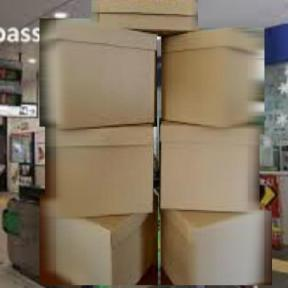box: (38, 16, 159, 129), (160, 26, 266, 137), (38, 194, 160, 286), (43, 126, 156, 220), (158, 116, 262, 216), (159, 210, 274, 286), (89, 0, 200, 37)
